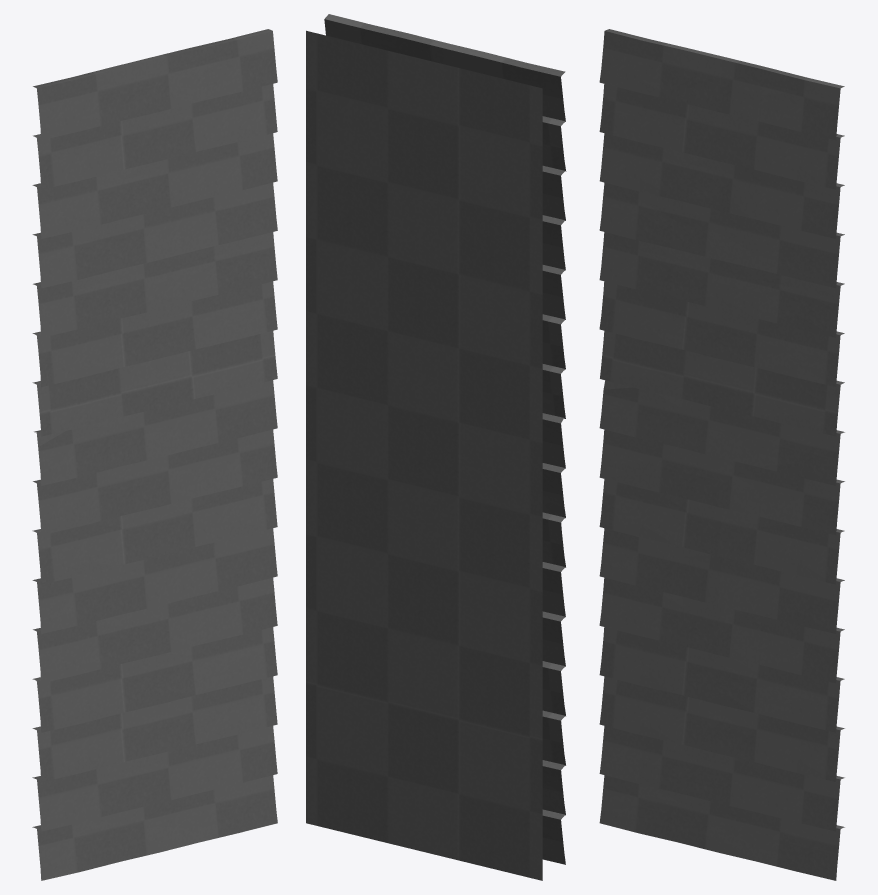
The model's file is SM_House_ExtWall_100CM.glb.
3 views of the same model, side by side, from view 1: azimuth 30°, elevation 25°; view 2: azimuth 150°, elevation 25°; view 3: azimuth 330°, elevation 25° (orthographic).
Visible parts, largest first — view 1: SM_House_ExtWall_100CM; view 2: SM_House_ExtWall_100CM; view 3: SM_House_ExtWall_100CM.
Boxes of the visible parts, x1,y1,x2,y2 form: SM_House_ExtWall_100CM: [32, 29, 277, 880]; SM_House_ExtWall_100CM: [306, 14, 566, 880]; SM_House_ExtWall_100CM: [599, 29, 844, 880].
Size of the model in its own units: 100 by 320 by 20.38.
1 material, 1 textured.
